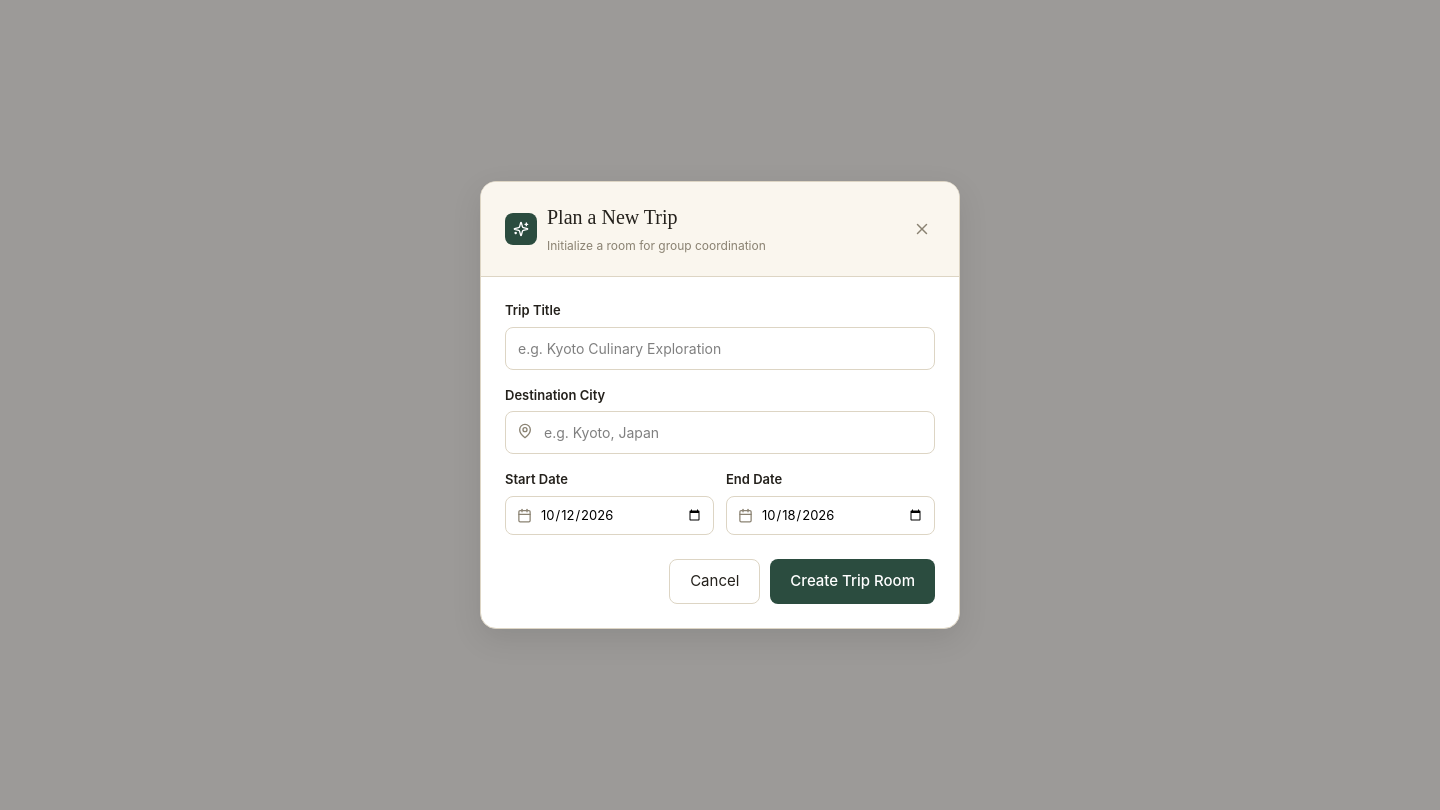
it: trip creation persistence › keeps the form open and does not invent a trip after a failed save
Step 1. Type "Kyoto trip" into the field with placeholder "e.g. Kyoto Culinary Exploration" → (720, 348), box [505,327,935,370]
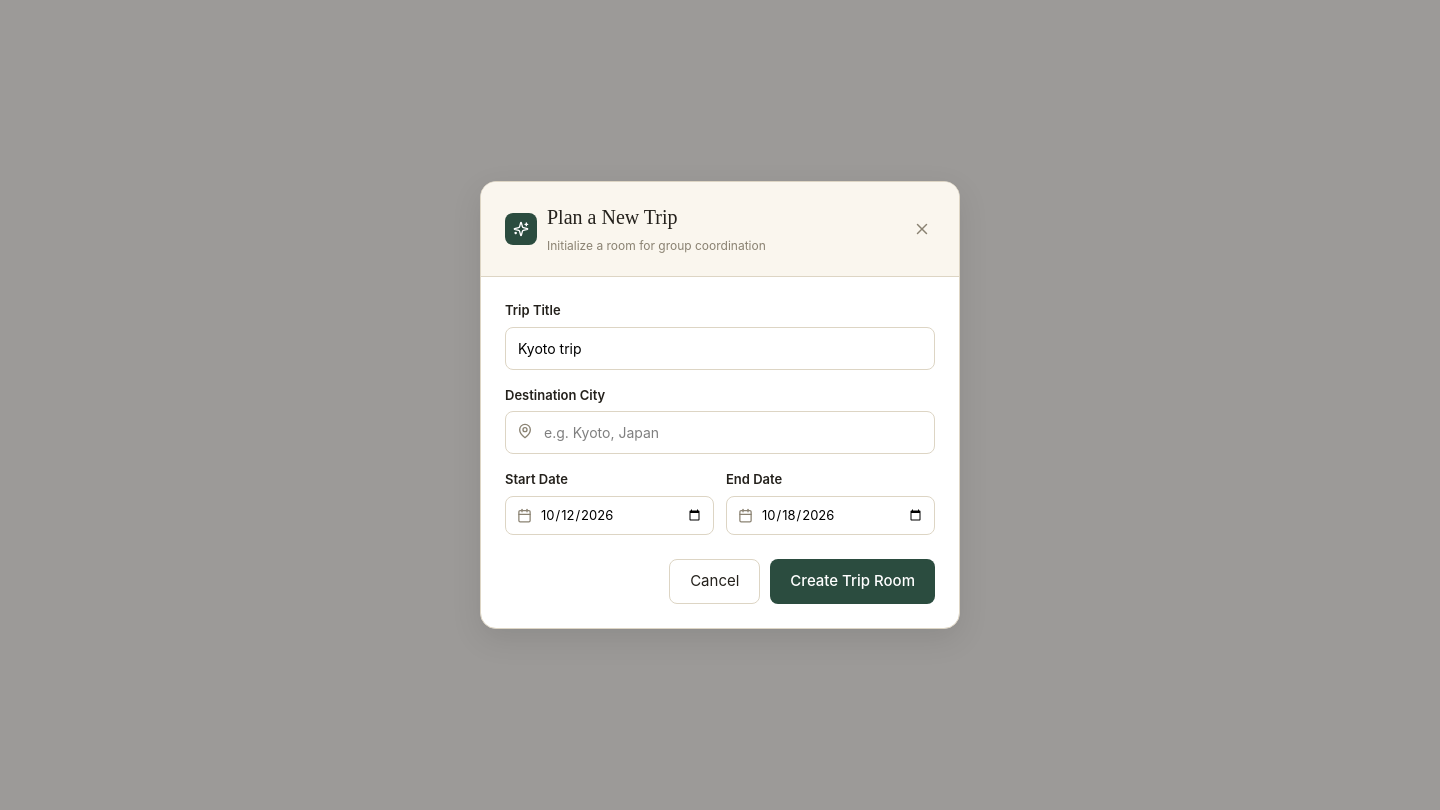
Step 2. Type "Kyoto" into the field with placeholder "e.g. Kyoto, Japan" → (720, 433), box [505,411,935,454]
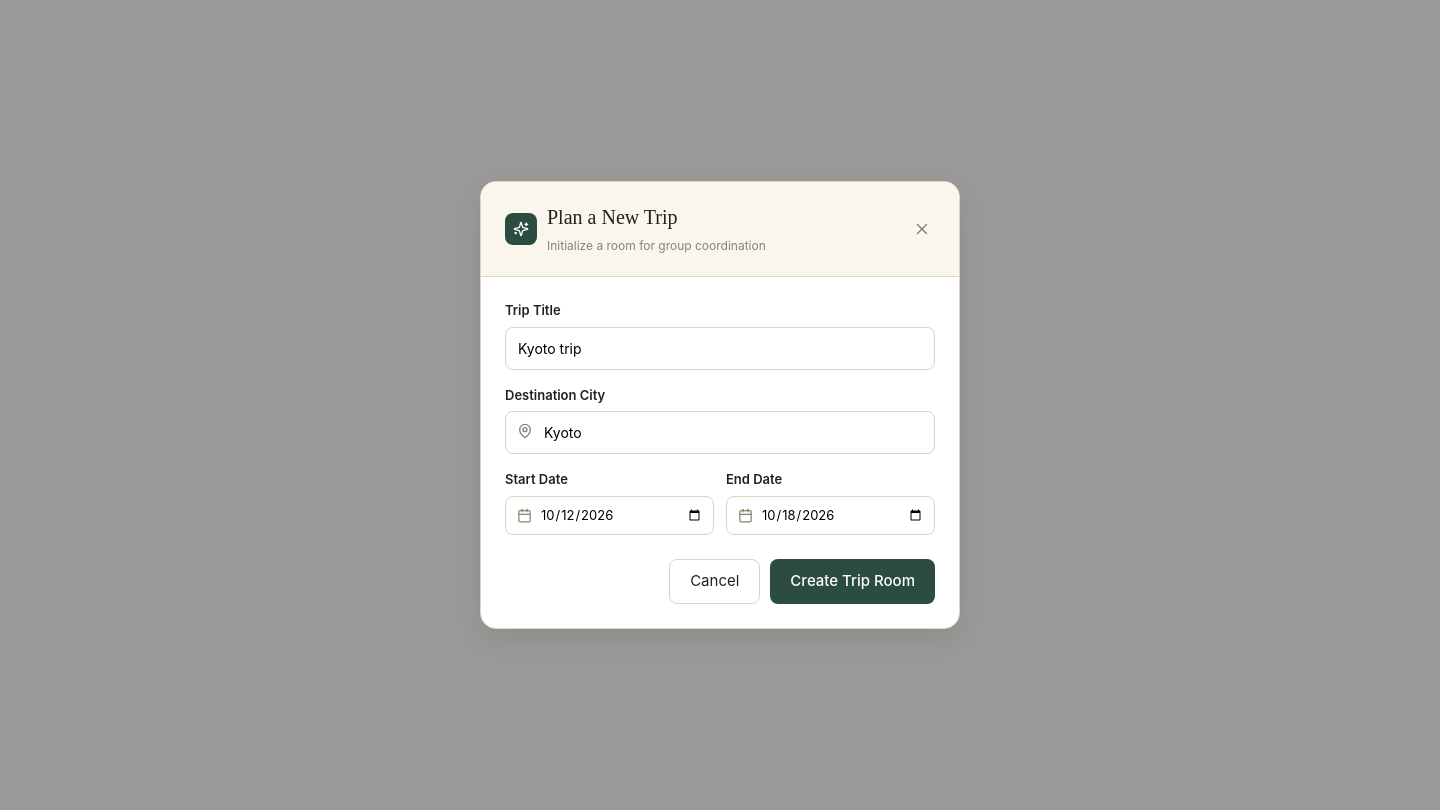
Step 3. Type "2027-01-01" into the date field labelled "Start Date" → (610, 516), box [505,496,714,535]
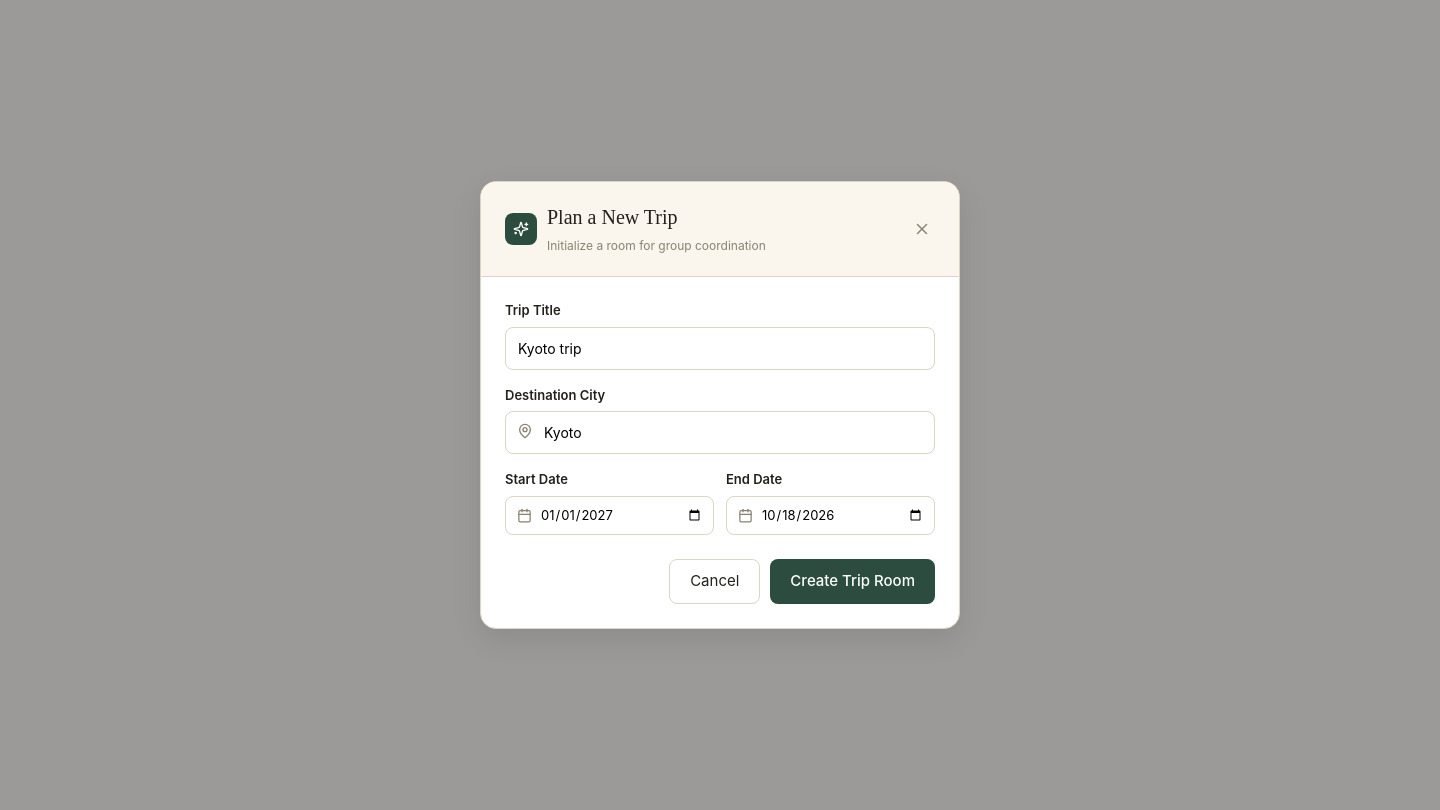
Step 4. Type "2027-01-03" into the date field labelled "End Date" → (830, 516), box [726,496,935,535]
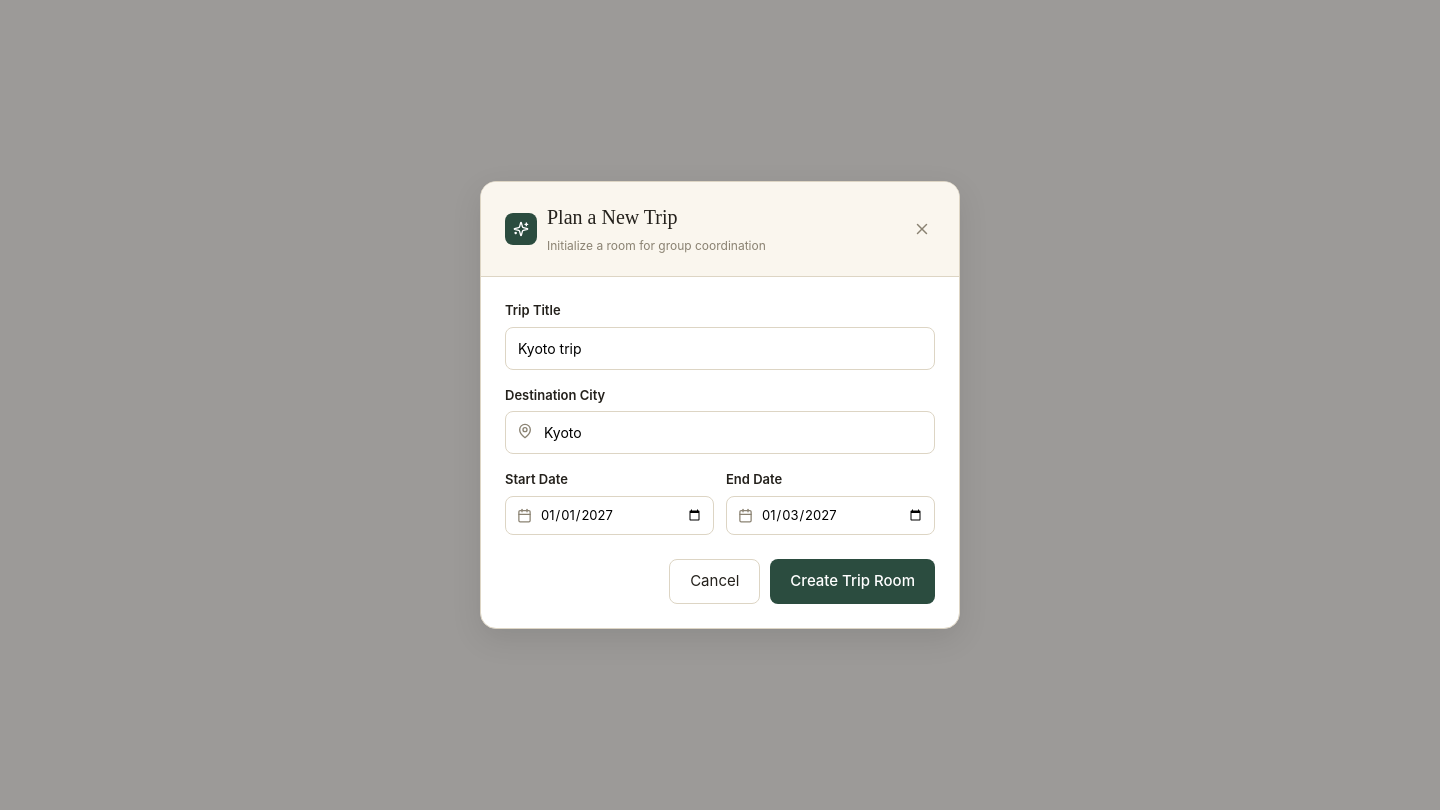
Step 5. Click the button "Create Trip Room" → (853, 582), box [770,559,935,604]
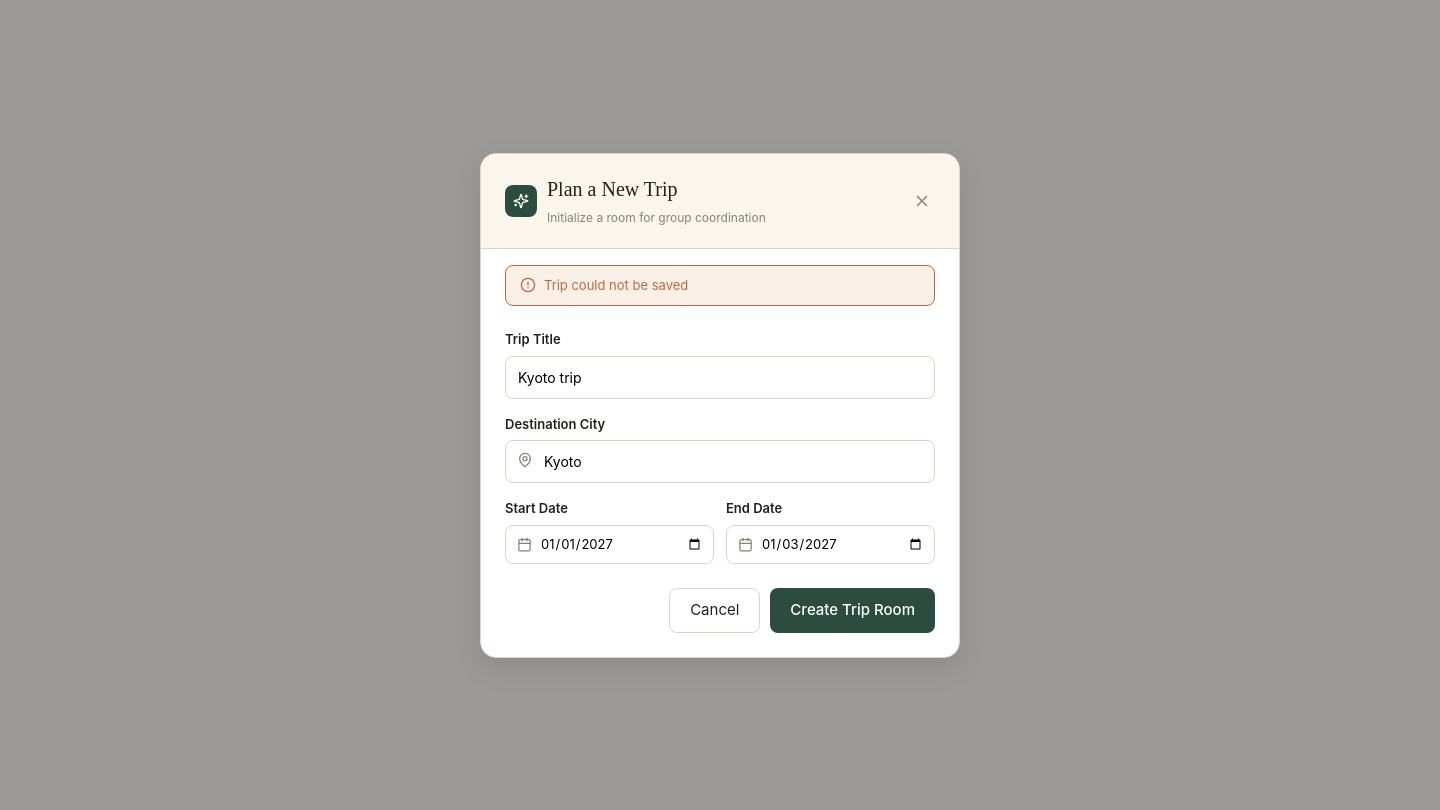
Check: the message reads "Trip could not be saved", box [544,276,688,292]
